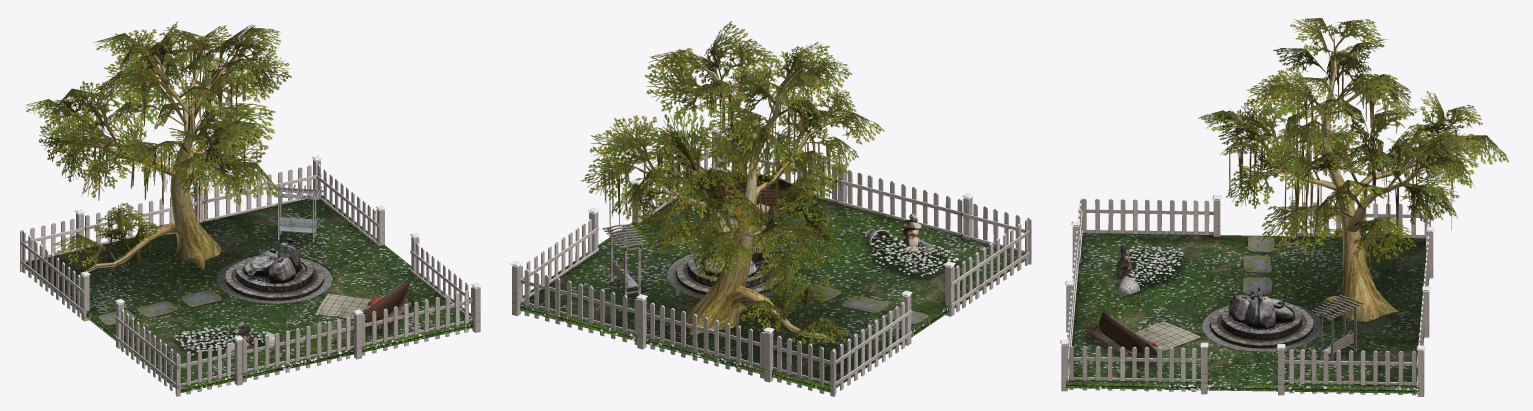
The model's file is park_lev3.glb.
3 views of the same model, side by side, from view 1: azimuth 30°, elevation 25°; view 2: azimuth 150°, elevation 25°; view 3: azimuth 270°, elevation 25° (orthographic). The views are drawn at different scales.
Visible parts, largest first — view 1: treeobj:prim0, ground, fence9, fence7, mmGroup0, boat:prim2, mmGroup0_Entenbrunnen_C:Entenbrunnen_O_Material_u1_v2_0.001, prim0, bench:prim4, rocks, gravel, mmGroup0_Entenbrunnen_C:Entenbrunnen_O_Material_u1_v2_0.002; view 2: treeobj:prim0, ground, fence7, fence9, prim0, boat:prim2, bench:prim4, rocks, mmGroup0_Entenbrunnen_C:Entenbrunnen_O_Material_u1_v2_0.001, mmGroup0, mmGroup0_Entenbrunnen_C:Entenbrunnen_O_Material_u1_v2_0.002, gravel; view 3: treeobj:prim0, ground, fence9, fence7, boat:prim2, mmGroup0, prim0, mmGroup0_Entenbrunnen_C:Entenbrunnen_O_Material_u1_v2_0.001, bench:prim4, rocks, gravel, mmGroup0_Entenbrunnen_C:Entenbrunnen_O_Material_u1_v2_0.002.
Boxes of the visible parts, <box> form: treeobj:prim0: <box>25,21,291,275</box>; ground: <box>25,195,472,392</box>; fence9: <box>115,232,481,396</box>; fence7: <box>20,155,385,321</box>; mmGroup0: <box>241,234,323,300</box>; boat:prim2: <box>316,276,411,330</box>; mmGroup0_Entenbrunnen_C:Entenbrunnen_O_Material_u1_v2_0.001: <box>231,242,324,300</box>; prim0: <box>173,321,283,357</box>; bench:prim4: <box>274,183,323,242</box>; rocks: <box>98,290,222,325</box>; gravel: <box>216,257,332,303</box>; mmGroup0_Entenbrunnen_C:Entenbrunnen_O_Material_u1_v2_0.002: <box>225,243,323,289</box>; treeobj:prim0: <box>581,21,884,346</box>; ground: <box>520,171,1024,392</box>; fence7: <box>510,207,912,396</box>; fence9: <box>631,126,1031,316</box>; prim0: <box>865,213,958,279</box>; boat:prim2: <box>708,174,804,240</box>; bench:prim4: <box>602,223,648,296</box>; rocks: <box>795,283,928,324</box>; mmGroup0_Entenbrunnen_C:Entenbrunnen_O_Material_u1_v2_0.001: <box>682,236,784,291</box>; mmGroup0: <box>676,227,771,294</box>; mmGroup0_Entenbrunnen_C:Entenbrunnen_O_Material_u1_v2_0.002: <box>676,234,777,295</box>; gravel: <box>666,251,794,301</box>; treeobj:prim0: <box>1198,18,1508,321</box>; ground: <box>1066,233,1429,393</box>; fence9: <box>1060,195,1221,394</box>; fence7: <box>1277,196,1434,396</box>; boat:prim2: <box>1085,310,1200,362</box>; mmGroup0: <box>1209,286,1313,348</box>; prim0: <box>1114,241,1184,296</box>; mmGroup0_Entenbrunnen_C:Entenbrunnen_O_Material_u1_v2_0.001: <box>1209,290,1312,345</box>; bench:prim4: <box>1311,295,1363,360</box>; rocks: <box>1242,236,1274,295</box>; gravel: <box>1201,303,1323,351</box>; mmGroup0_Entenbrunnen_C:Entenbrunnen_O_Material_u1_v2_0.002: <box>1240,295,1313,348</box>.
Bounding box in the file's own units: 43.93 × 36.65 × 54.37.
Materials: 26 (24 with a texture image).
